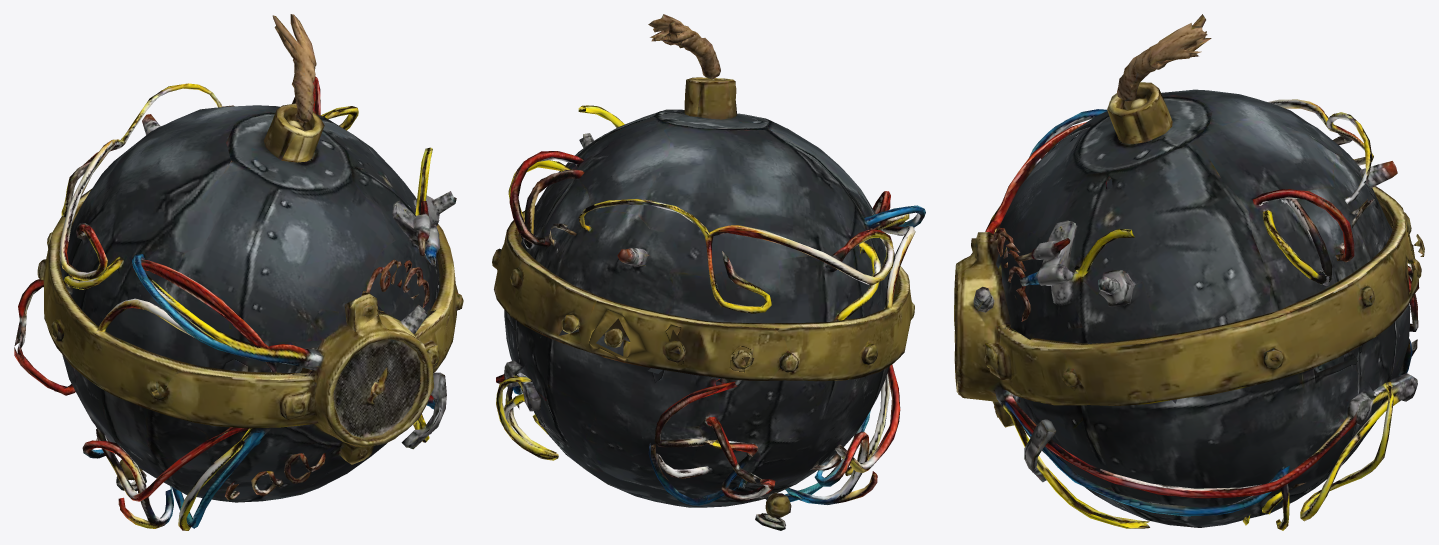
The model's file is bomb.glb.
3 renders of one model, left to right at view 1: azimuth 30°, elevation 25°; view 2: azimuth 150°, elevation 25°; view 3: azimuth 270°, elevation 25°, orthographic. The views are drawn at different scales.
Parts seen in each view (by area): view 1: world; view 2: world; view 3: world.
Boxes of the visible parts, box(x1,y1,x2,y2) form: world: box(14, 14, 463, 530); world: box(492, 14, 925, 530); world: box(954, 14, 1424, 530).
Size of the model in its own units: 0.7499 by 0.9137 by 0.7712.
1 material, 1 textured.
